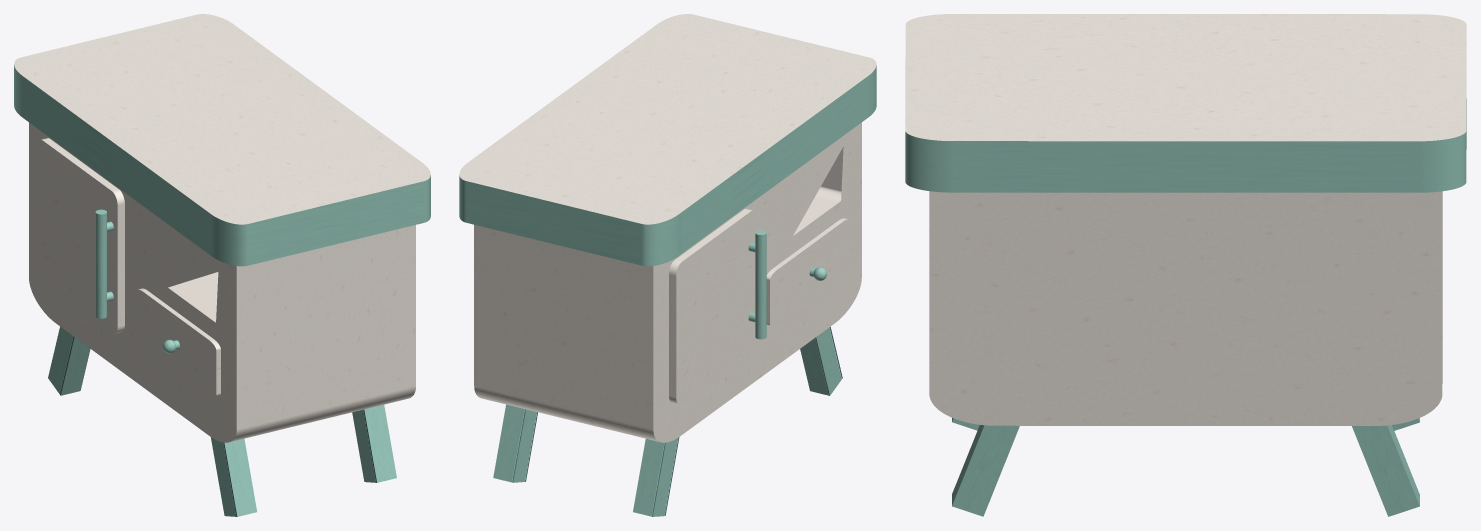
File: mueble.obj
3 renders of one model, left to right at view 1: azimuth 30°, elevation 25°; view 2: azimuth 150°, elevation 25°; view 3: azimuth 270°, elevation 25°, orthographic. The views are drawn at different scales.
Parts seen in each view (by area): view 1: Cubo.013, Cube.046, Cubo.003, Cubo.006, Cubo.007, Cubo.011, Cubo.010, Cubo.005, Cilindro.032; view 2: Cubo.013, Cube.046, Cubo.003, Cubo.006, Cubo.007, Cubo.005, Cubo.012, Cubo.011, Cilindro.032; view 3: Cube.046, Cubo.013, Cubo.006, Cubo.010, Cubo.012.
Boxes of the visible parts, left/top/right/bottom form: Cubo.013: left=14, top=14, right=430, bottom=245; Cube.046: left=29, top=122, right=415, bottom=442; Cubo.003: left=37, top=138, right=124, bottom=333; Cubo.006: left=14, top=85, right=430, bottom=266; Cubo.007: left=136, top=288, right=220, bottom=396; Cubo.011: left=211, top=437, right=257, bottom=516; Cubo.010: left=352, top=404, right=396, bottom=482; Cubo.005: left=48, top=326, right=90, bottom=395; Cilindro.032: left=95, top=209, right=106, bottom=318; Cubo.013: left=459, top=14, right=876, bottom=245; Cube.046: left=474, top=122, right=861, bottom=442; Cubo.003: left=669, top=208, right=756, bottom=404; Cubo.006: left=459, top=86, right=876, bottom=266; Cubo.007: left=766, top=218, right=850, bottom=326; Cubo.005: left=633, top=437, right=679, bottom=516; Cubo.012: left=493, top=404, right=537, bottom=482; Cubo.011: left=800, top=327, right=842, bottom=395; Cilindro.032: left=755, top=230, right=766, bottom=339; Cube.046: left=929, top=191, right=1442, bottom=425; Cubo.013: left=905, top=14, right=1466, bottom=166; Cubo.006: left=905, top=124, right=1466, bottom=192; Cubo.010: left=952, top=425, right=1019, bottom=516; Cubo.012: left=1352, top=425, right=1419, bottom=516.
Bounding box in the file's own units: 7.47 × 10.4 × 13.52.
1 material, 1 textured.
